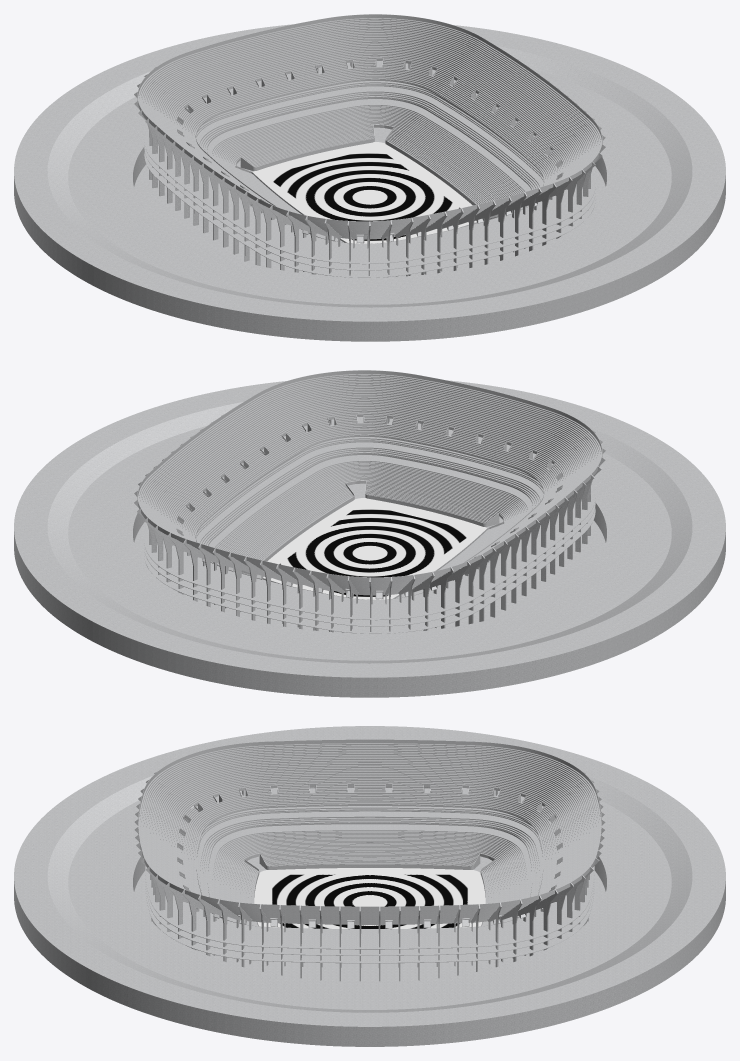
Rendered from stadium.glb.
3 renders of one model, top to bottom at view 1: azimuth 30°, elevation 25°; view 2: azimuth 150°, elevation 25°; view 3: azimuth 270°, elevation 25°, orthographic.
Visible parts, largest first — view 1: Circle008, Shape011, Rectangle001, Object4209, Arc020; view 2: Circle008, Shape011, Rectangle001, Object4209, Arc020; view 3: Circle008, Shape011, Rectangle001, Object4209, Arc020.
Part boxes in pixels (bbox=[...]): Circle008: bbox=[14, 24, 725, 341]; Shape011: bbox=[137, 14, 602, 277]; Rectangle001: bbox=[253, 142, 476, 243]; Object4209: bbox=[134, 59, 605, 277]; Arc020: bbox=[235, 124, 498, 242]; Circle008: bbox=[14, 380, 725, 697]; Shape011: bbox=[137, 370, 602, 633]; Rectangle001: bbox=[263, 498, 486, 599]; Object4209: bbox=[134, 418, 605, 633]; Arc020: bbox=[241, 480, 504, 598]; Circle008: bbox=[14, 726, 725, 1046]; Shape011: bbox=[138, 739, 601, 963]; Rectangle001: bbox=[254, 868, 485, 928]; Object4209: bbox=[134, 772, 605, 981]; Arc020: bbox=[244, 853, 495, 926].
Size of the model in its own units: 386 by 51.34 by 386.
Materials: 2 (2 with a texture image).
